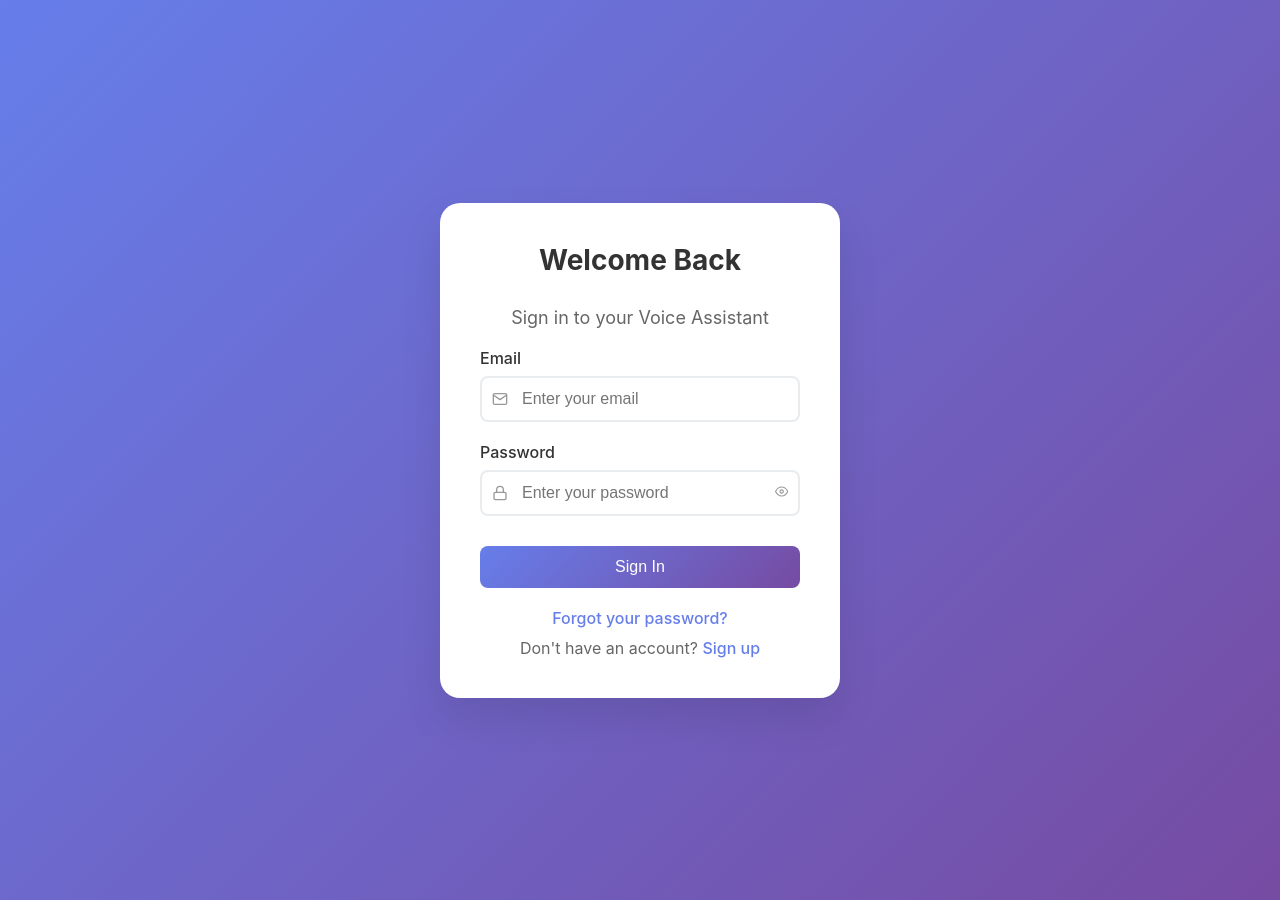
Test: Login Component › Login Success › should show loading state during login
Type "test@example.com" into the field labelled "Email" at (640, 398), box [480,376,800,422]
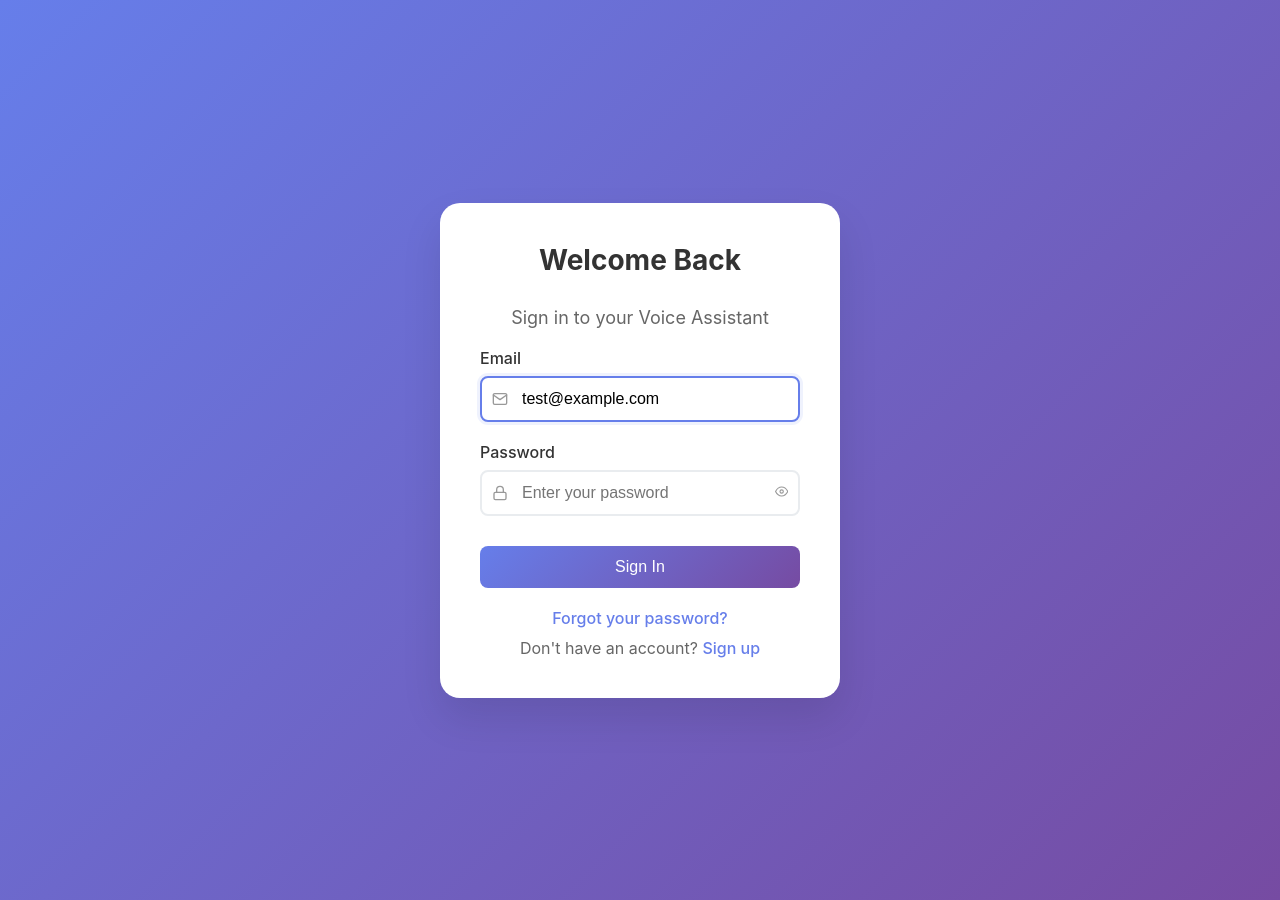
Type "password123" into the password field labelled "Password" at (640, 492), box [480,470,800,516]
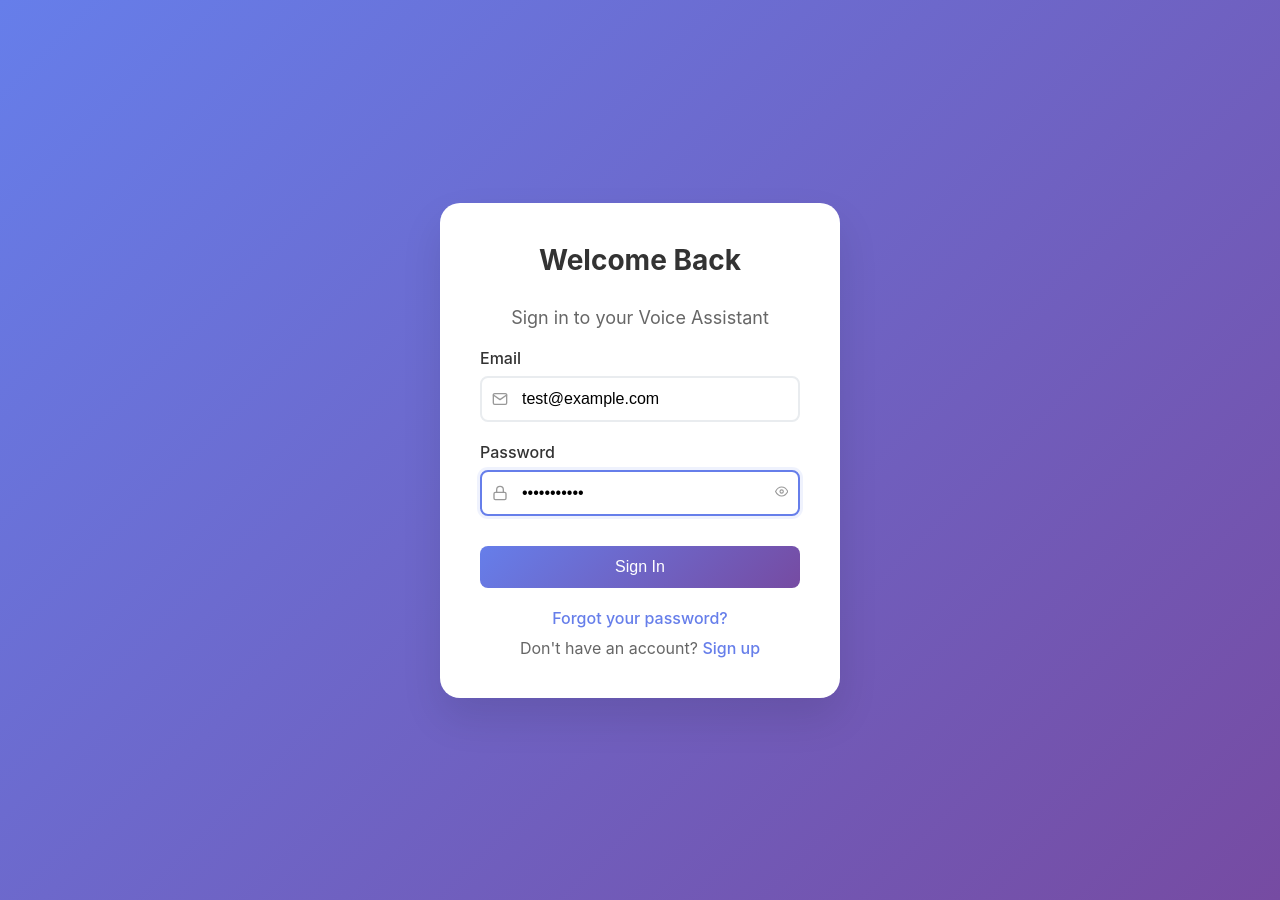
Click the button "Sign In" at (640, 566), box [480,546,800,588]
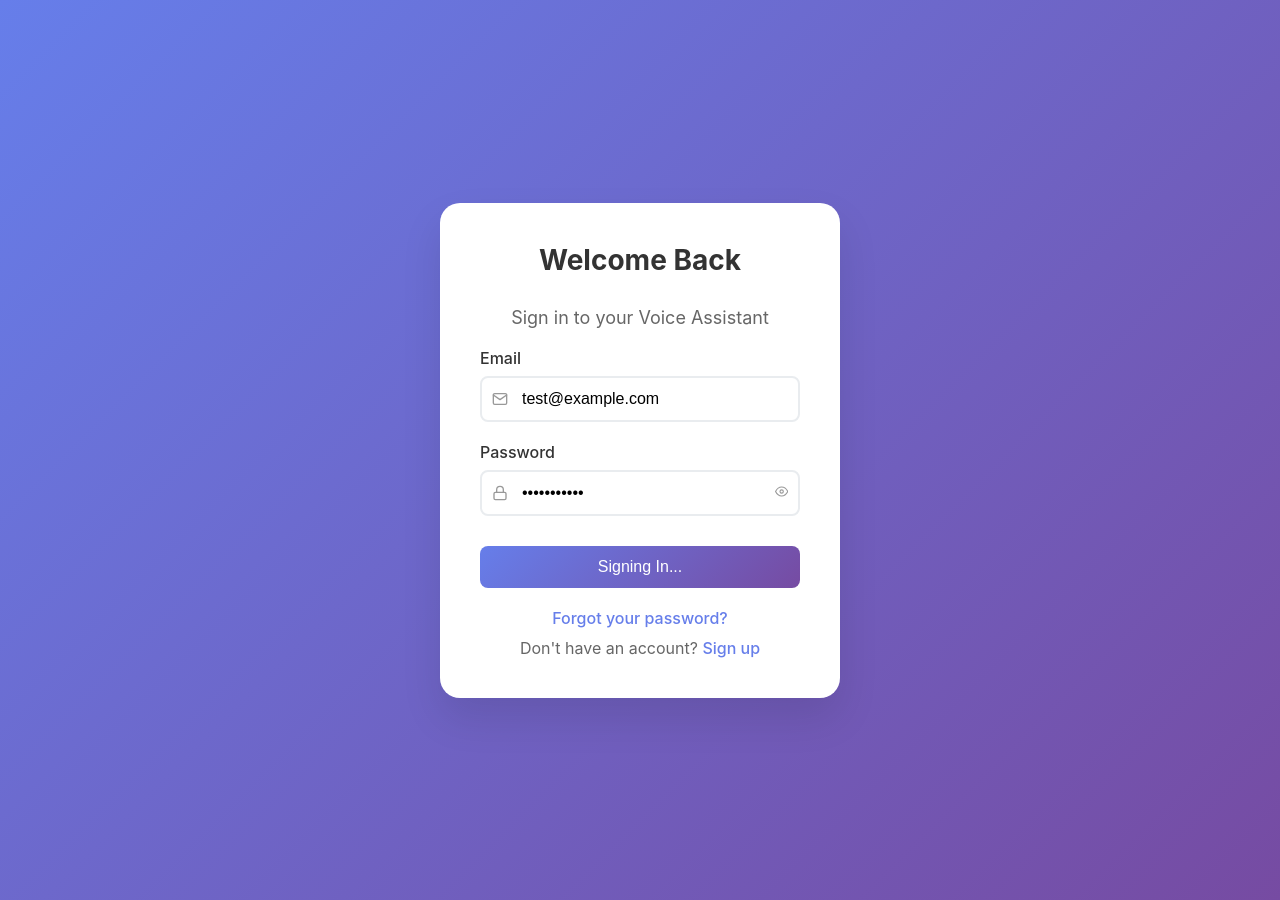
Expected: the button "Signing In..." is disabled, [480,546,800,588]
